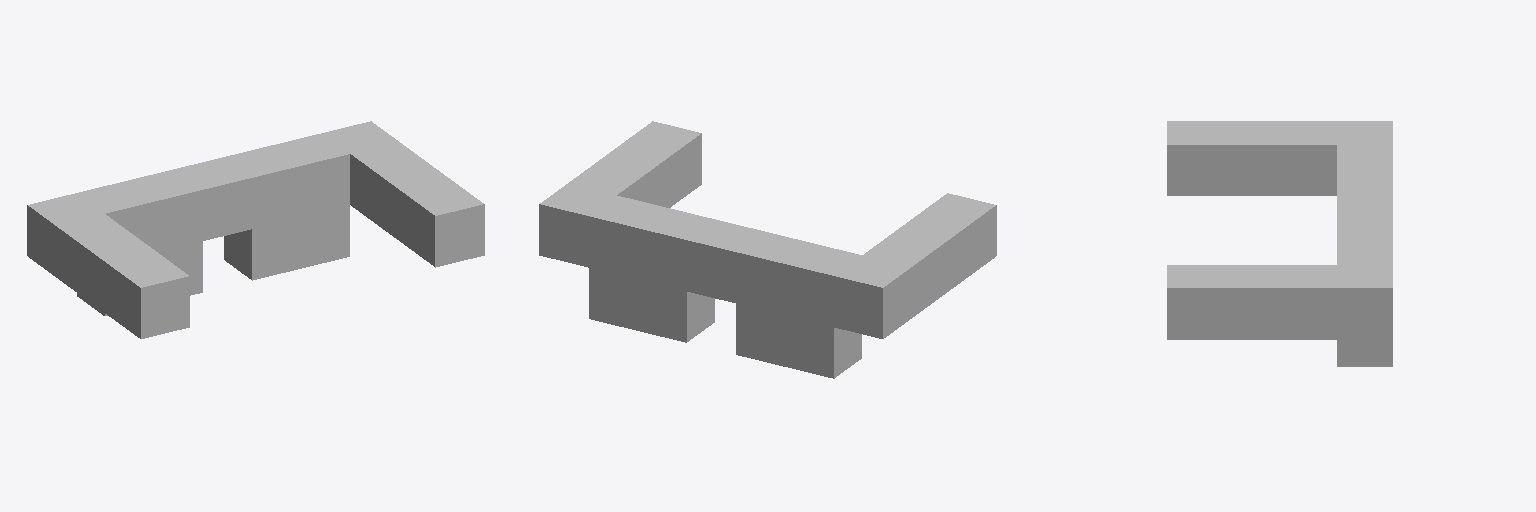
The model's file is sunglasses.obj.
3 views of the same model, side by side, from view 1: azimuth 30°, elevation 25°; view 2: azimuth 150°, elevation 25°; view 3: azimuth 270°, elevation 25° (orthographic).
Parts seen in each view (by area): view 1: object 1; view 2: object 1; view 3: object 1.
Part boxes in pixels (x1,y1,x2,y2): object 1: (27, 121, 484, 338); object 1: (539, 121, 996, 378); object 1: (1167, 121, 1392, 366).
Size of the model in its own units: 0.7 by 0.2 by 0.4.